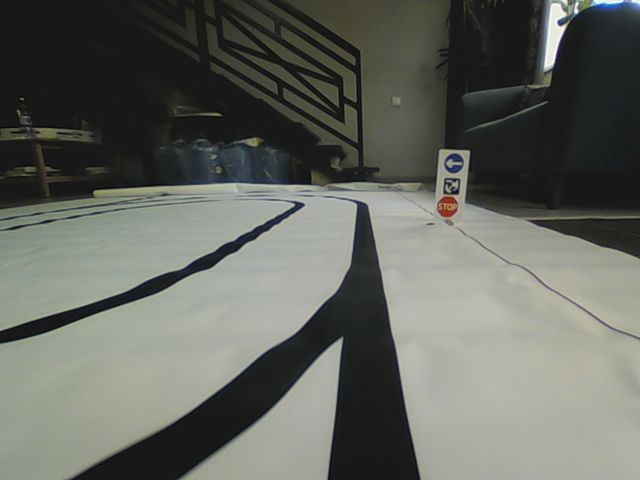Stop: (437, 196, 459, 219)
